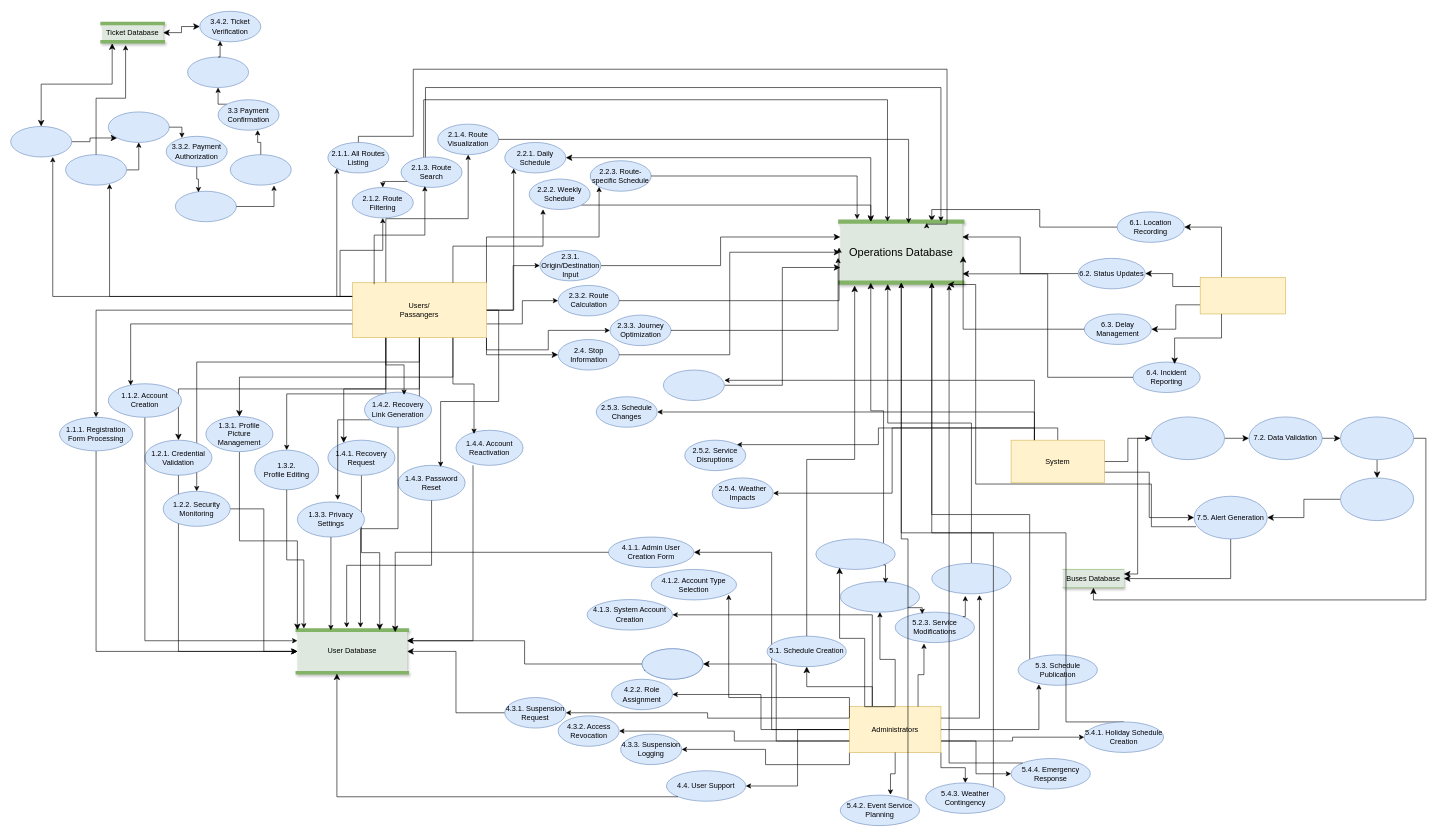
Some shapes in this 1443 by 837 pixel diagram are drawn without their labels. Each missing label, with the centre of its shape:
"2.5.1. Delay Information" belongs at (x=693, y=385).
"3.1.1. Ticket Types Display" belongs at (x=41, y=141).
"3.1.2. Ticket Filtering" belongs at (x=96, y=169).
"3.3.1. Payment Method Selection" belongs at (x=138, y=126).
"3.3.3. Transaction Processing" belongs at (x=205, y=206).
"3.3.4. Receipt Generation" belongs at (x=260, y=169).
"3.4.1. QR Code Scanning" belongs at (x=218, y=72).
"4.2.1. Permission Groups" belongs at (x=672, y=663).
"5.2.1. Schedule Selection" belongs at (x=855, y=553).
"5.2.2. Time Adjustments" belongs at (x=880, y=596).
"5.2.4. Change Validation" belongs at (x=971, y=578).
"7. Real-time location updates" belongs at (x=1377, y=438).
"7.1. Data Collection" belongs at (x=1188, y=438).
"7.4. Display Preparation" belongs at (x=1377, y=499).
"Drivers" belongs at (x=1243, y=295).
